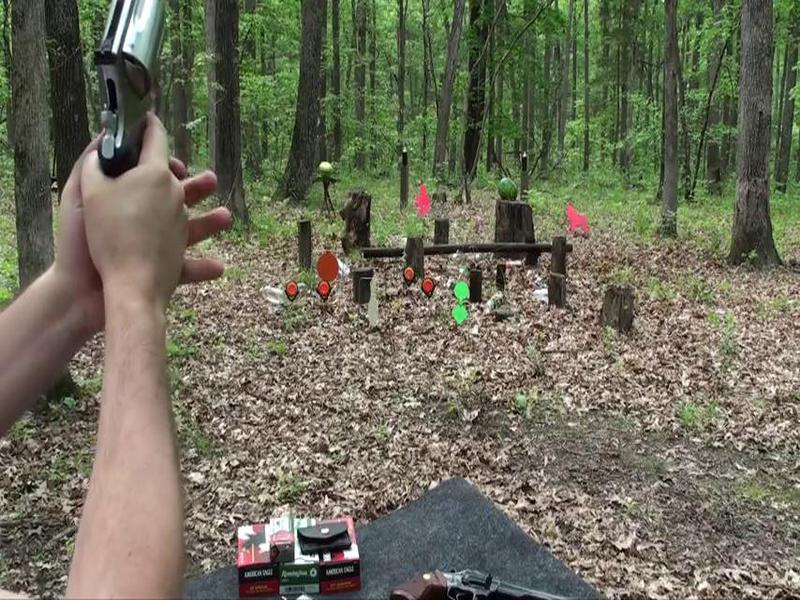Revolver: (54, 1, 210, 219)
